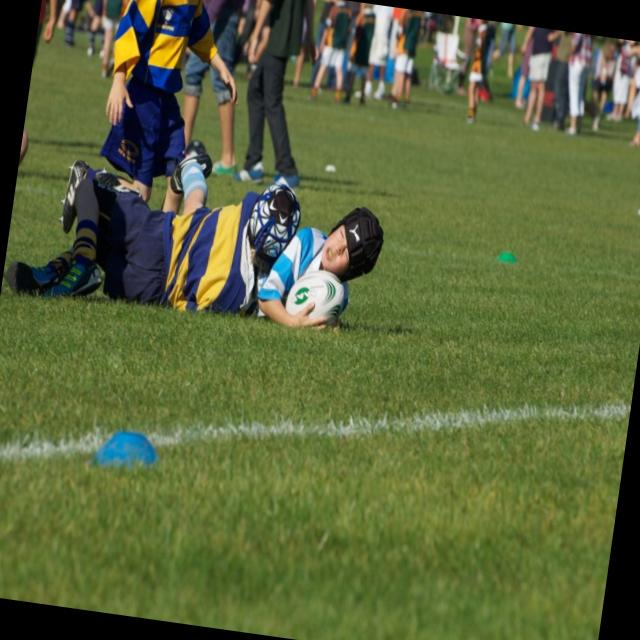Ball: (282, 264, 352, 334)
